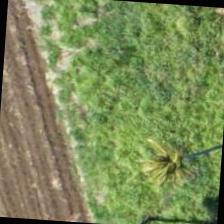Kelapa_Sawit: (95, 124, 191, 220)
